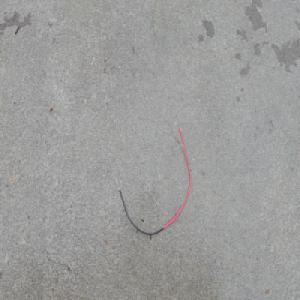Wire: (114, 118, 192, 237)
